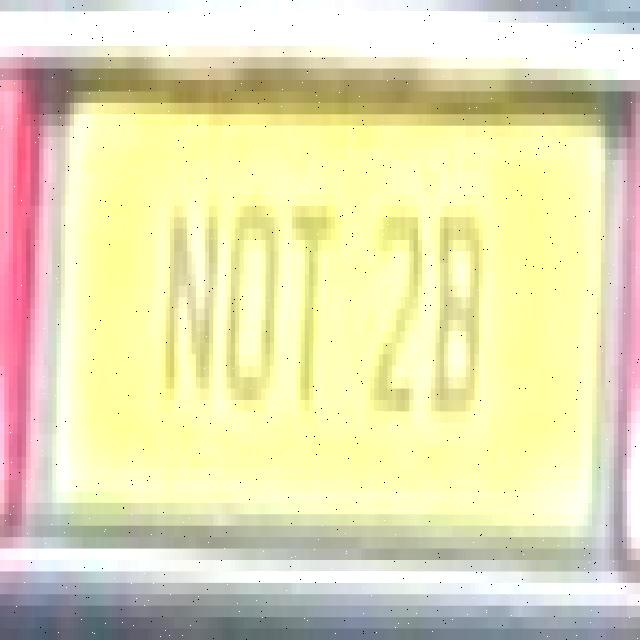licenseplate: (30, 59, 628, 565)
